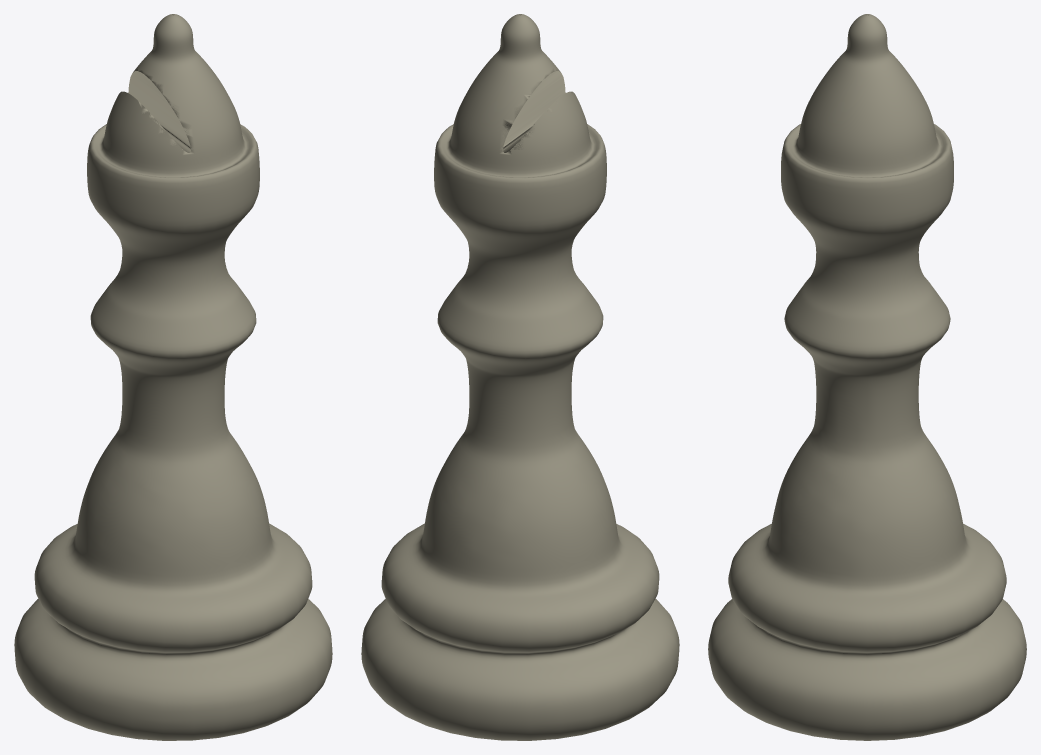
Rendered from klasikset_b_w.glb.
3 renders of one model, left to right at view 1: azimuth 30°, elevation 25°; view 2: azimuth 150°, elevation 25°; view 3: azimuth 270°, elevation 25°, orthographic.
Visible parts, largest first — view 1: White chess side.003_8; view 2: White chess side.003_8; view 3: White chess side.003_8.
Boxes of the visible parts, bbox=[...] form: White chess side.003_8: bbox=[14, 14, 332, 740]; White chess side.003_8: bbox=[361, 14, 679, 740]; White chess side.003_8: bbox=[708, 14, 1026, 740].
Size of the model in its own units: 1.28 by 2.99 by 1.28.
